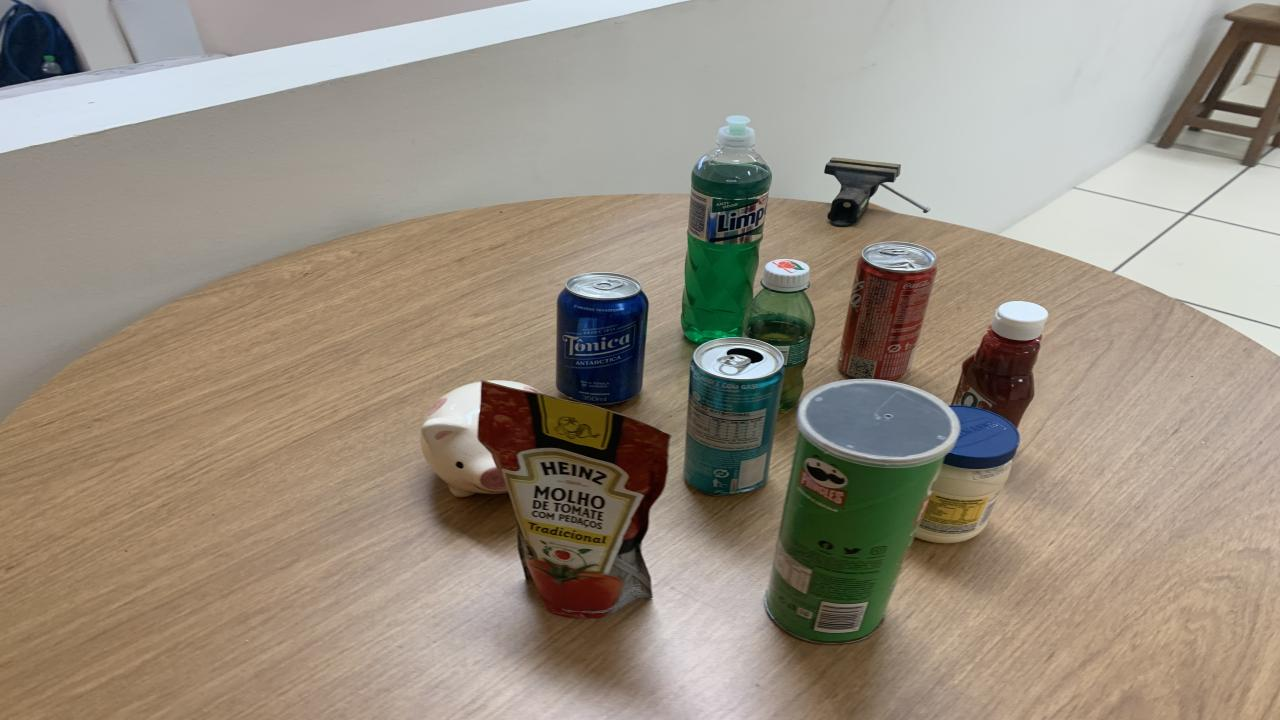Coke-Drinks: (838, 242, 938, 381)
Detergent-Cleanup_Items: (682, 114, 772, 343)
Guarana-Drinks: (742, 259, 815, 411)
Ketchup-Pantry_Items: (952, 302, 1048, 426)
Mayonnaise-Pantry_Items: (915, 405, 1020, 544)
Pig_Safe-Miscellaneous: (420, 382, 508, 497), (498, 381, 538, 392)
Pringles-Snacks: (765, 379, 960, 643)
Tea-Drinks: (685, 338, 785, 495)
Tomato_Sauce-Pantry_Items: (478, 382, 670, 619)
Tonic-Drinks: (555, 272, 648, 405)
